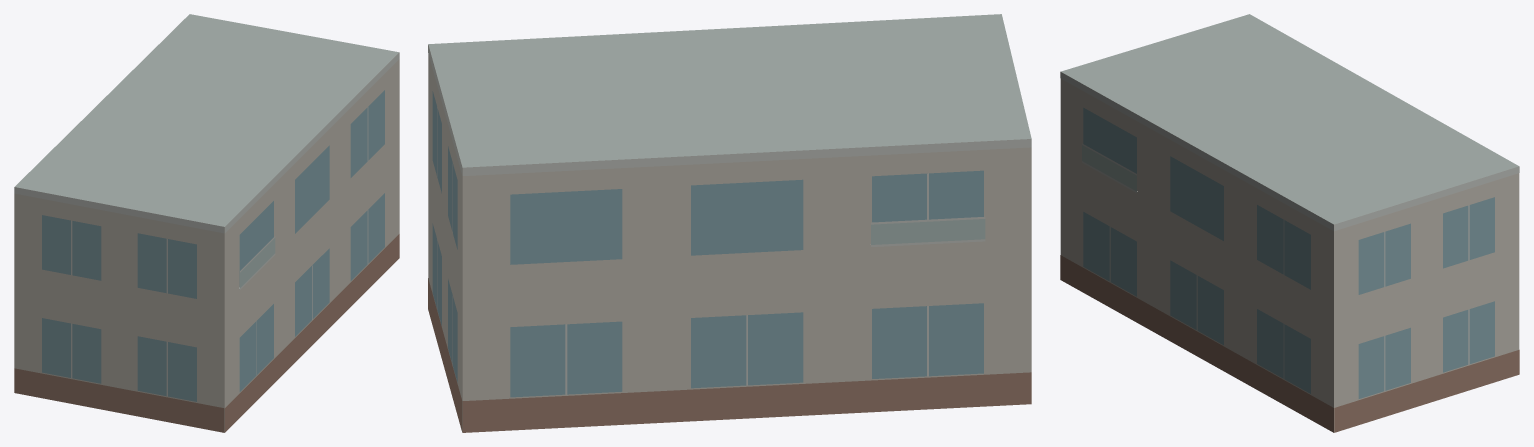
File: survey-upis-32609250.glb
3 views of the same model, side by side, from view 1: azimuth 30°, elevation 25°; view 2: azimuth 150°, elevation 25°; view 3: azimuth 270°, elevation 25° (orthographic). The views are drawn at different scales.
Visible parts, largest first — view 1: survey-upis-32609250.tmp; view 2: survey-upis-32609250.tmp; view 3: survey-upis-32609250.tmp.
Boxes of the visible parts, box(x1,y1,x2,y2) form: survey-upis-32609250.tmp: box(14, 14, 399, 432); survey-upis-32609250.tmp: box(428, 14, 1031, 432); survey-upis-32609250.tmp: box(1060, 14, 1519, 432).
Size of the model in its own units: 16.49 by 7.6 by 15.19.
